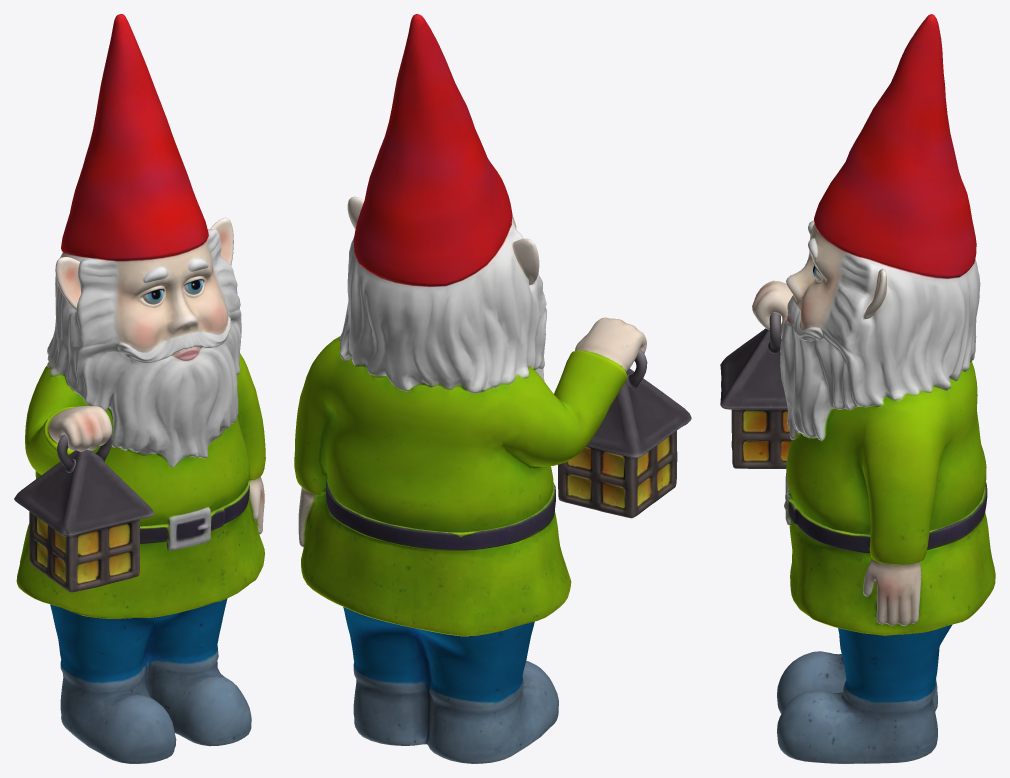
Rendered from garden_gnome.glb.
The picture shows the model from 3 angles, left to right: view 1: azimuth 30°, elevation 25°; view 2: azimuth 150°, elevation 25°; view 3: azimuth 270°, elevation 25°; orthographic projection. The views are drawn at different scales.
Parts seen in each view (by area): view 1: garden_gnome; view 2: garden_gnome; view 3: garden_gnome.
Part boxes in pixels (x1,y1,x2,y2): garden_gnome: (14, 14, 265, 763); garden_gnome: (294, 14, 691, 763); garden_gnome: (720, 14, 995, 763).
Bounding box in the file's own units: 0.2579 × 0.5991 × 0.2097.
Materials: 1 (1 with a texture image).
